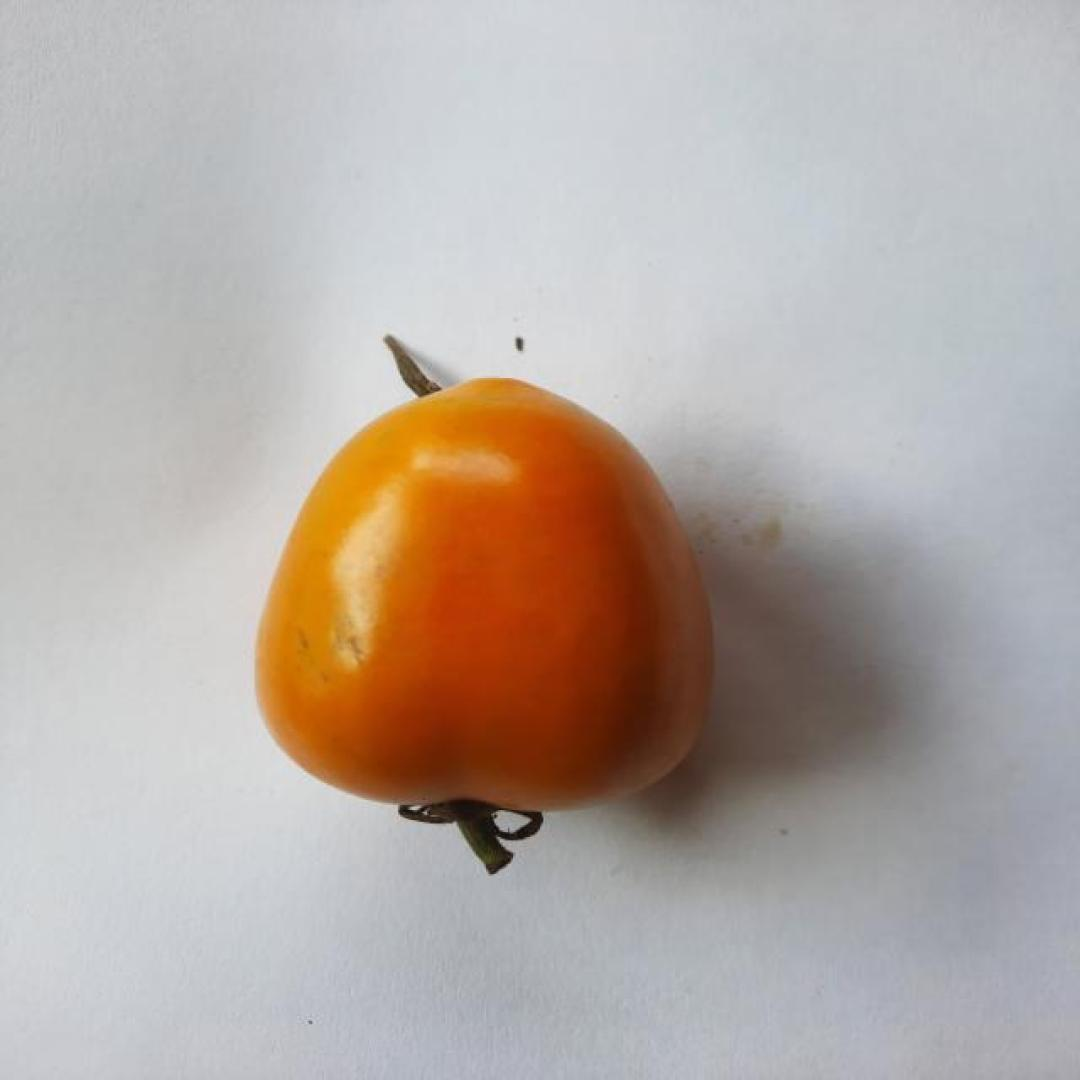setengah_matang: (252, 376, 718, 812)
